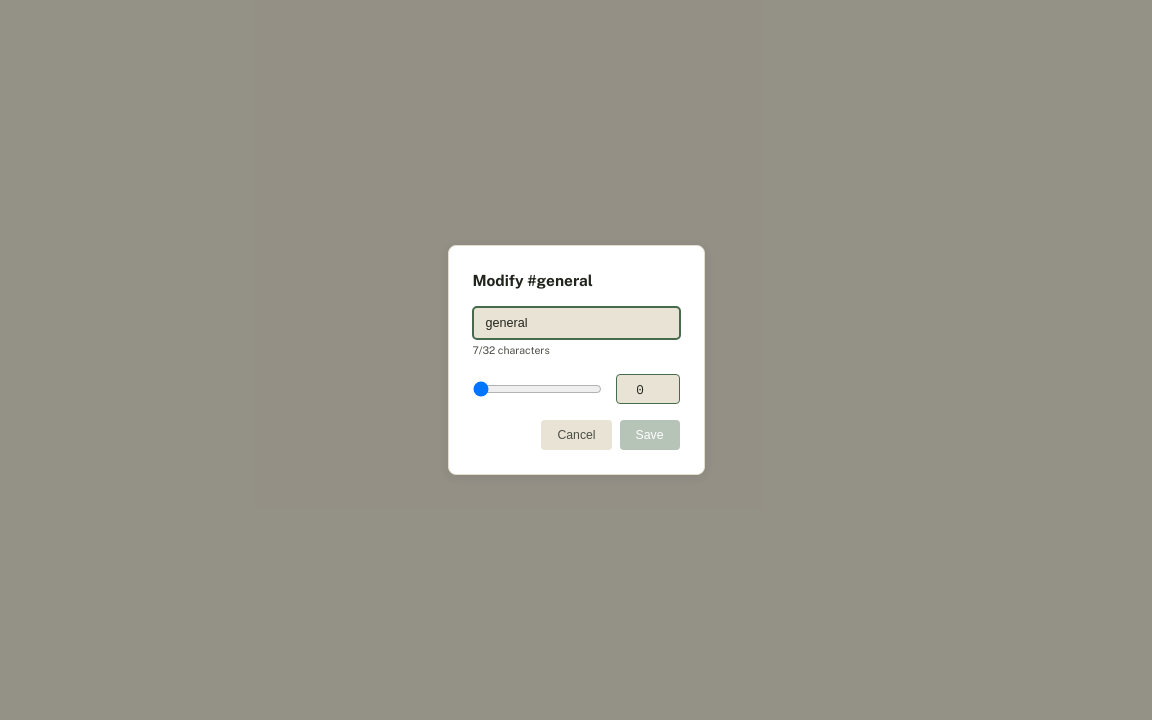
Test: ModifyChannelDialog › shows inline error when modify_channel rejects
Replace the text in the field with placeholder "Channel name" with "newname": (576, 323) x1=472 y1=307 x2=680 y2=339
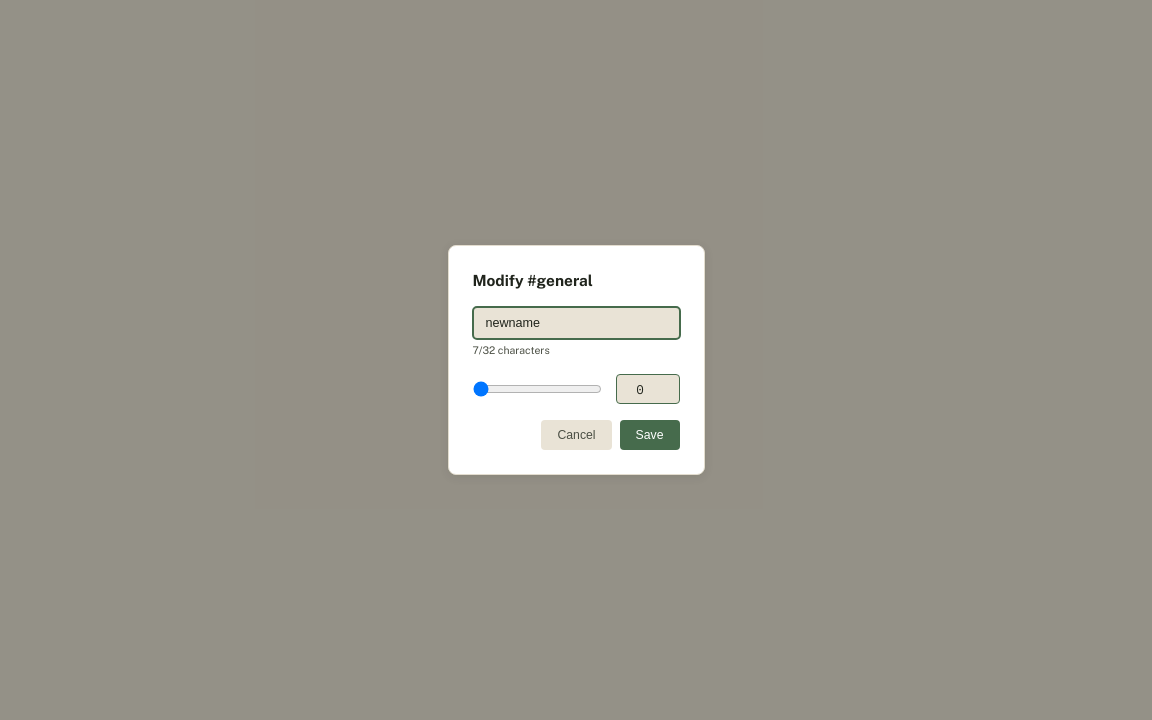
Click the button "Save": (650, 435) x1=620 y1=420 x2=680 y2=450
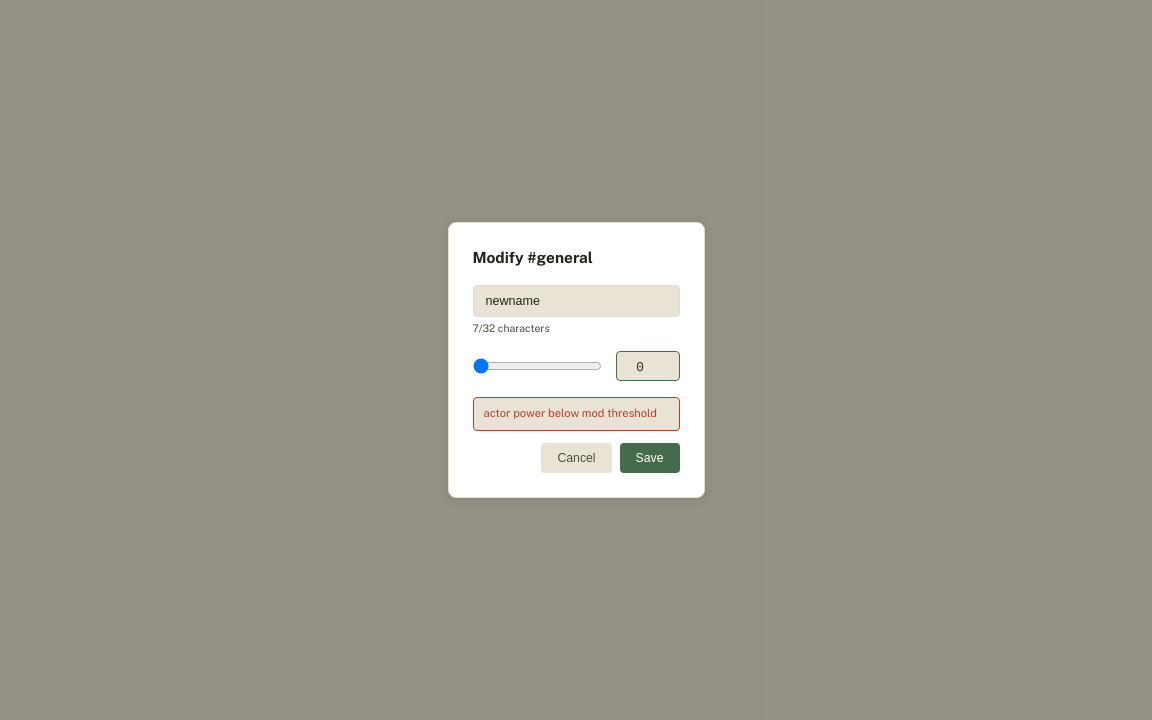
Now the text "actor power below mod threshold" is shown, box x1=472 y1=397 x2=680 y2=431
